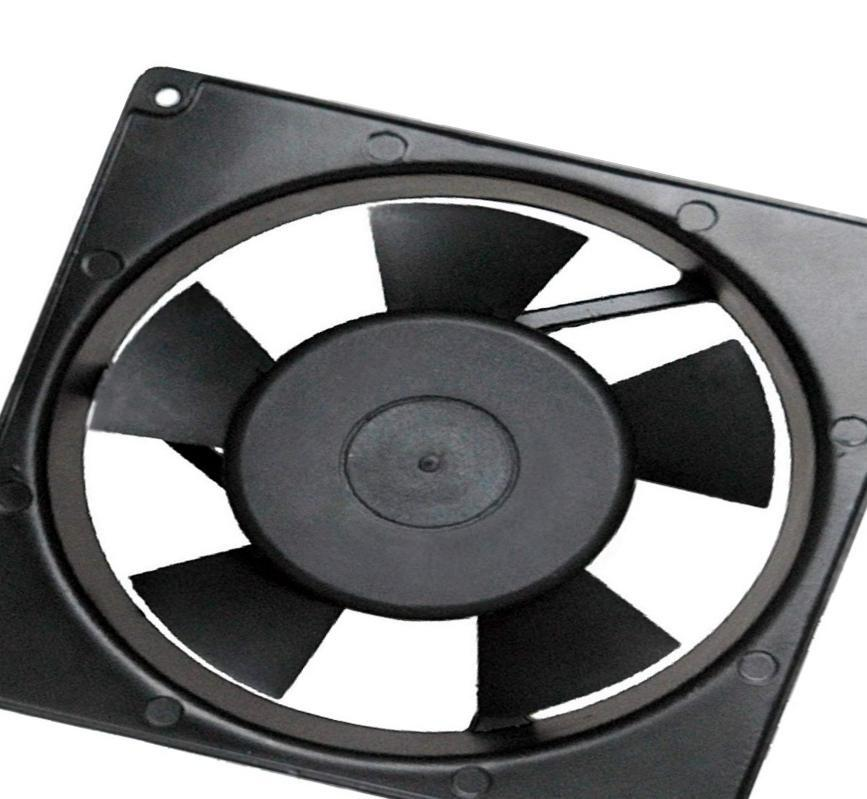fan: (0, 128, 867, 799)
